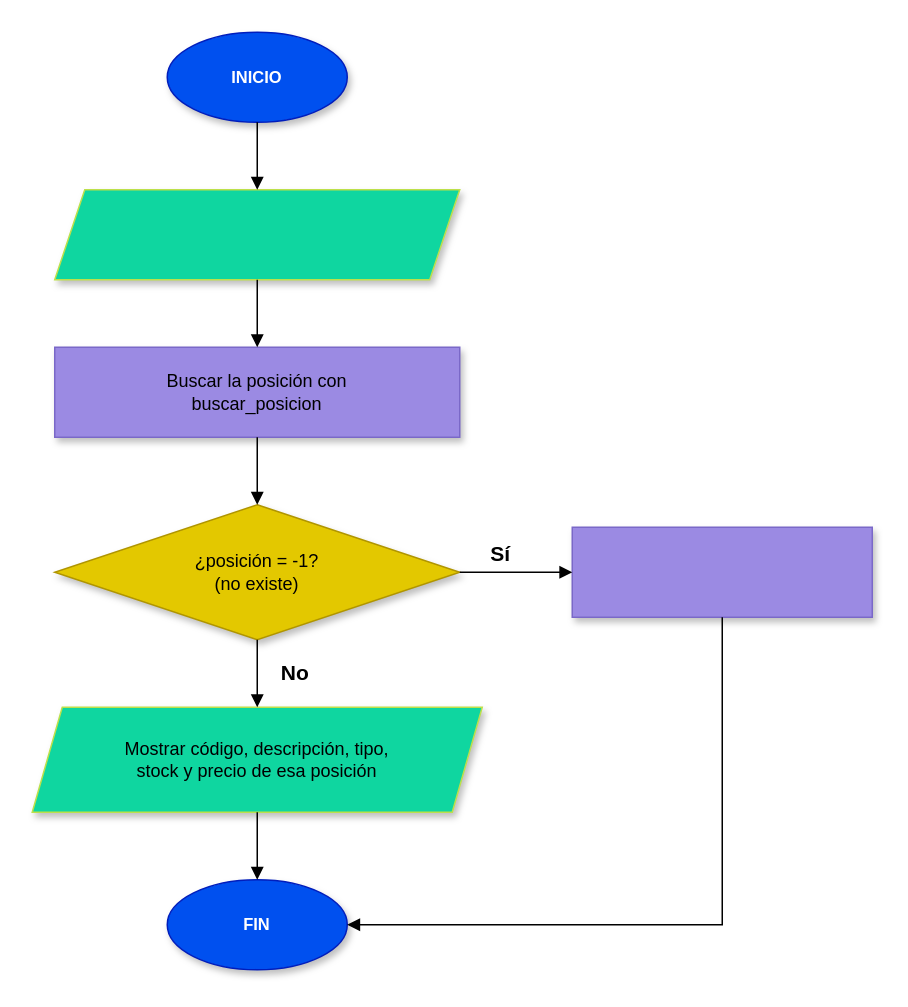
This 908x1007 diagram has some shape labels left out. Here are the shapes that lost their labels. From the top down, the centre of each, then its label:
At pixel 258 236: "Pedir el código a buscar (leer_texto y .upper())".
At pixel 723 574: "Mostrar: Producto no encontrado".
